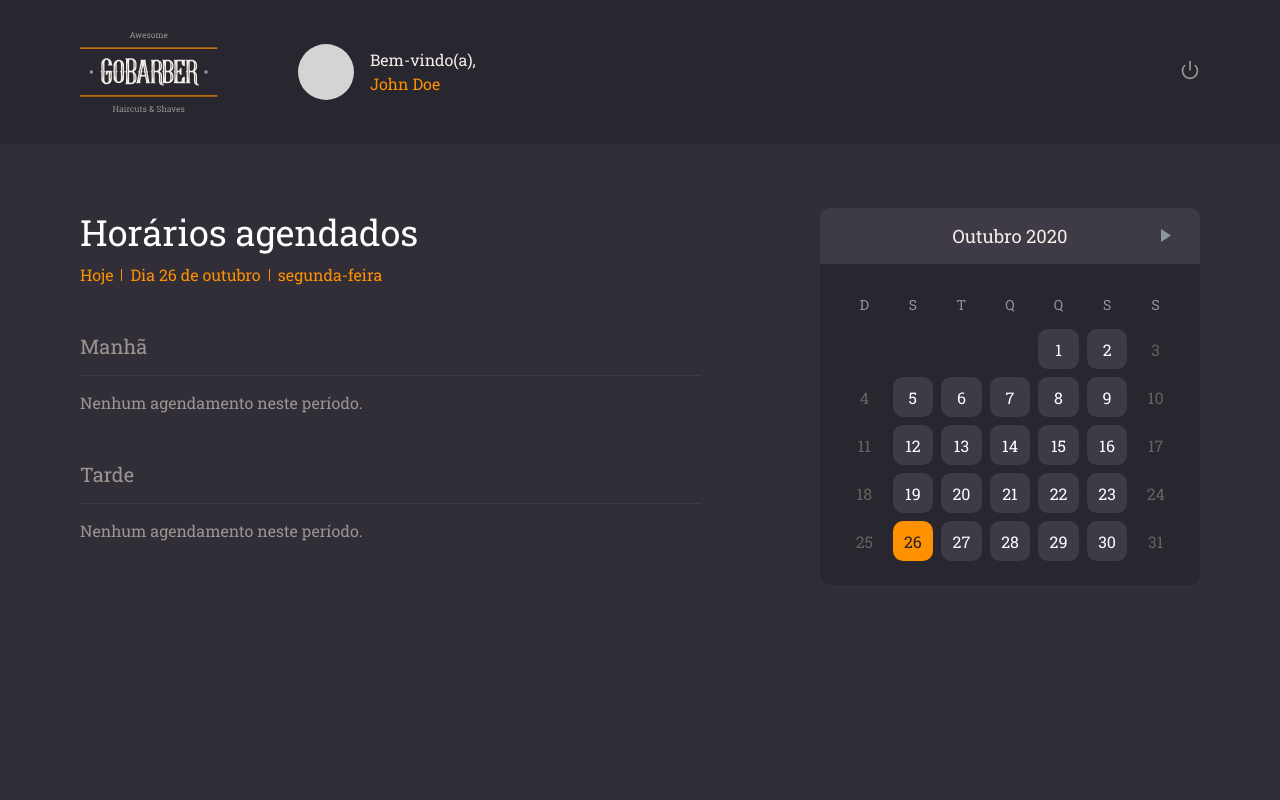
Test: Dashboard Page › should be able to change the day in the calendar
The width and height of the screenshot is (1280, 800).
Click the text "27" at (961,541), box [941,521,982,561]
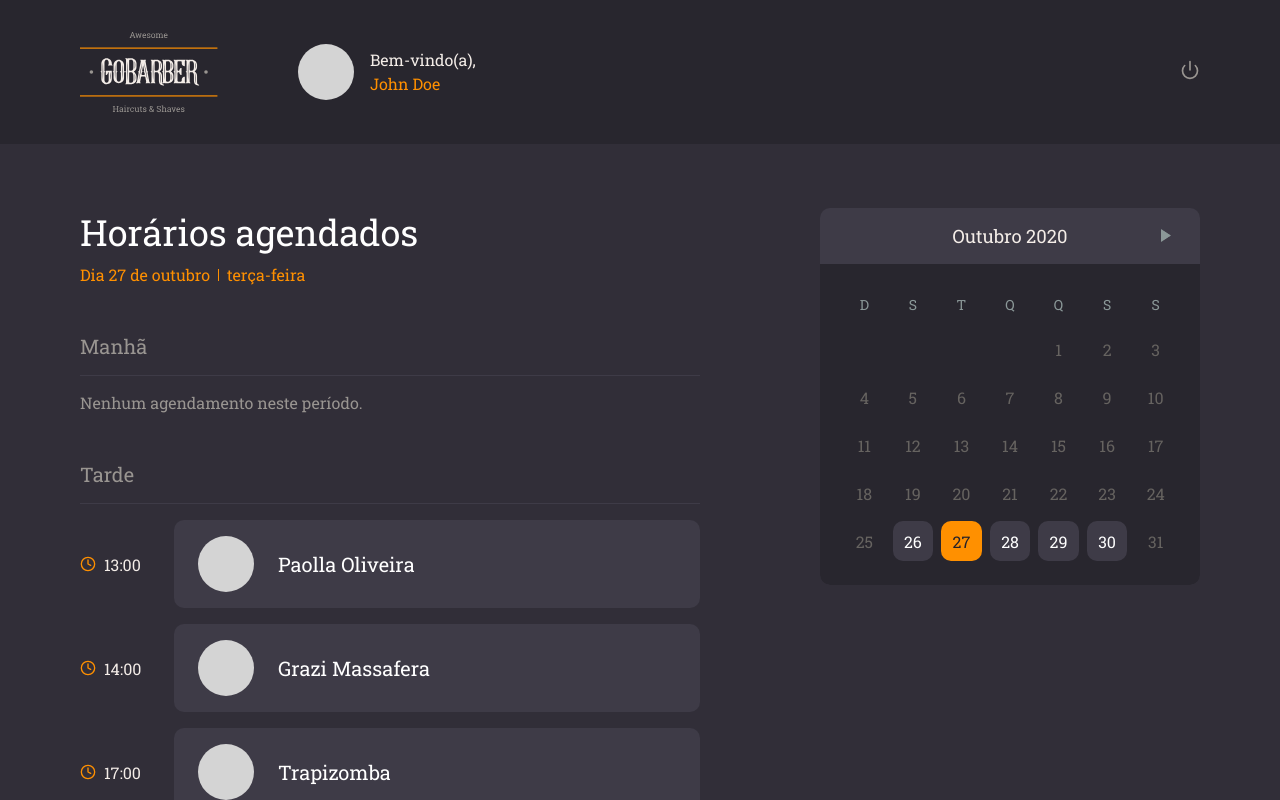
expect the text "Hoje" is gone: met
expect the text "Dia 27 de outubro" is shown: met, box [80,264,210,285]
